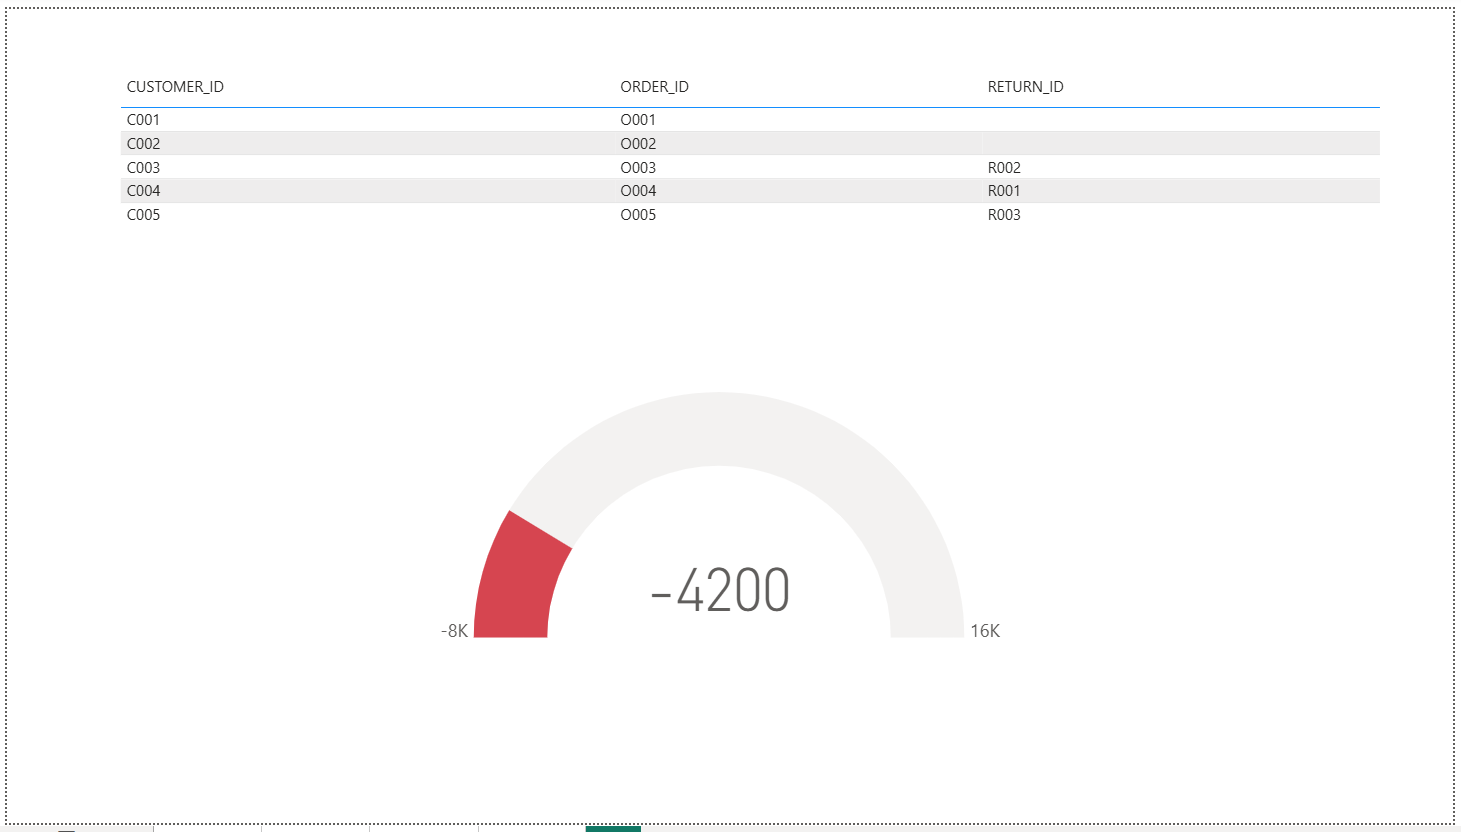

What the dashboard file says about the page in this screenshot:
{"tool":"powerbi","page":{"name":"Page 3","canvas":[1280,720],"ordinal":3},"visuals":[{"type":"gauge","fields":{"Y":["CUSTOMERS.Loss Due to Returns"],"MaxValue":["CUSTOMERS.TOTAL_SALES"]},"box":[373.8,311.2,515,258.8],"z":0},{"type":"tableEx","fields":{"Values":["ORDERS.CUSTOMER_ID","ORDERS.ORDER_ID","RETURNS.RETURN_ID"]},"box":[95,53.8,1125,278.8],"z":1000}]}

Visuals, with their boxes in screenshot pixels (x1, y1, x2, y2), scaled from the page's 1280x720 canvas onto the 1461x832 screenshot:
gauge - CUSTOMERS.Loss Due to Returns x CUSTOMERS.TOTAL_SALES: rect(427, 360, 1014, 659)
tableEx - ORDERS.CUSTOMER_ID x ORDERS.ORDER_ID: rect(108, 62, 1393, 384)
